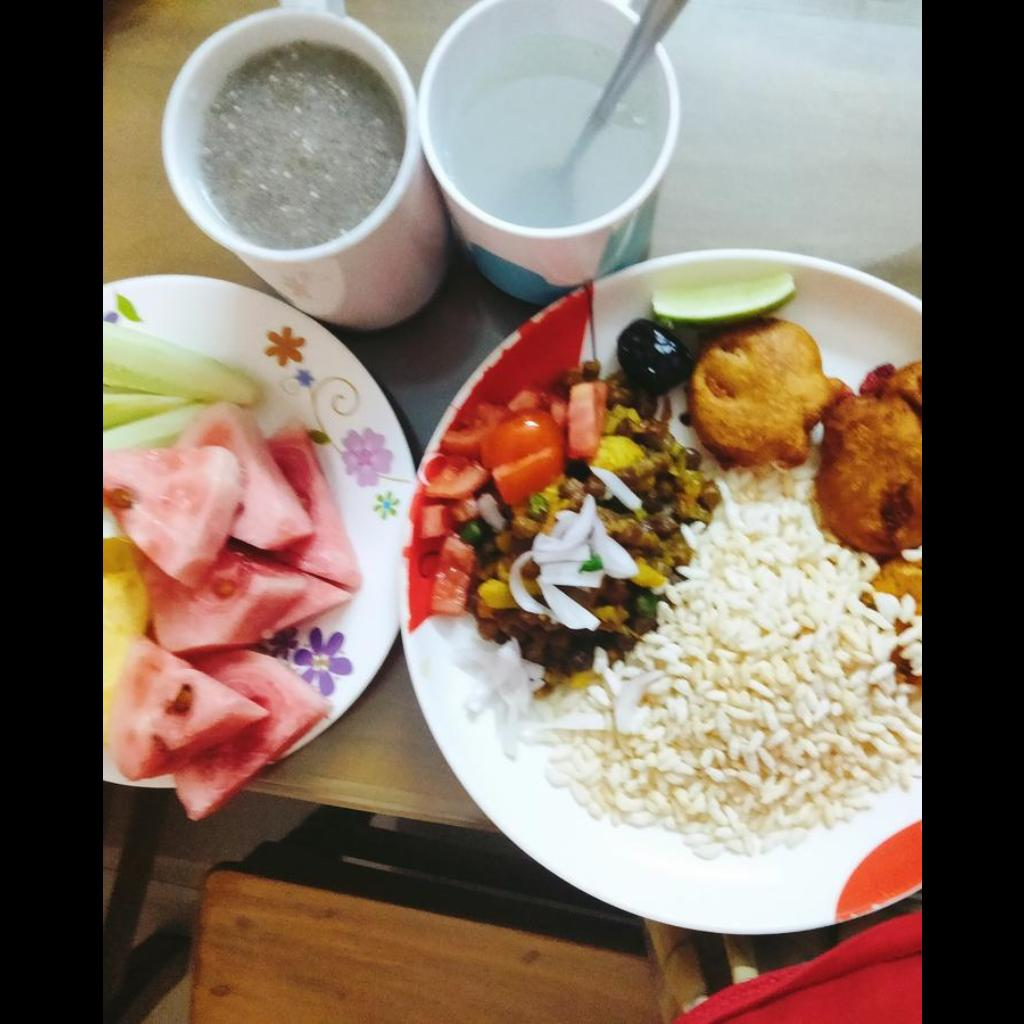chola: (448, 374, 719, 689)
chop-alu: (697, 322, 920, 548)
cucumber: (102, 322, 258, 447)
dates: (615, 319, 693, 400)
juice: (196, 40, 404, 250)
lemon: (650, 267, 794, 324)
pineapple: (102, 537, 146, 745)
puffed-rice: (531, 464, 920, 854)
tomato: (413, 382, 608, 611)
watermelon: (102, 409, 356, 819)
